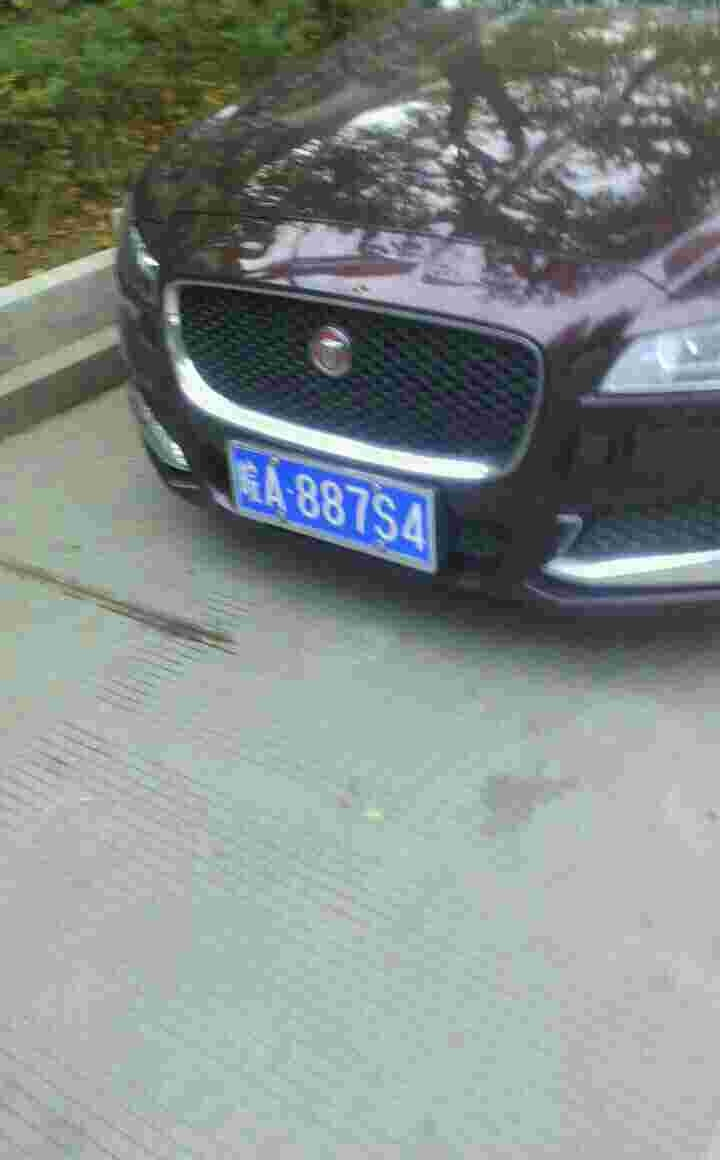license_plate: (230, 446, 433, 560)
